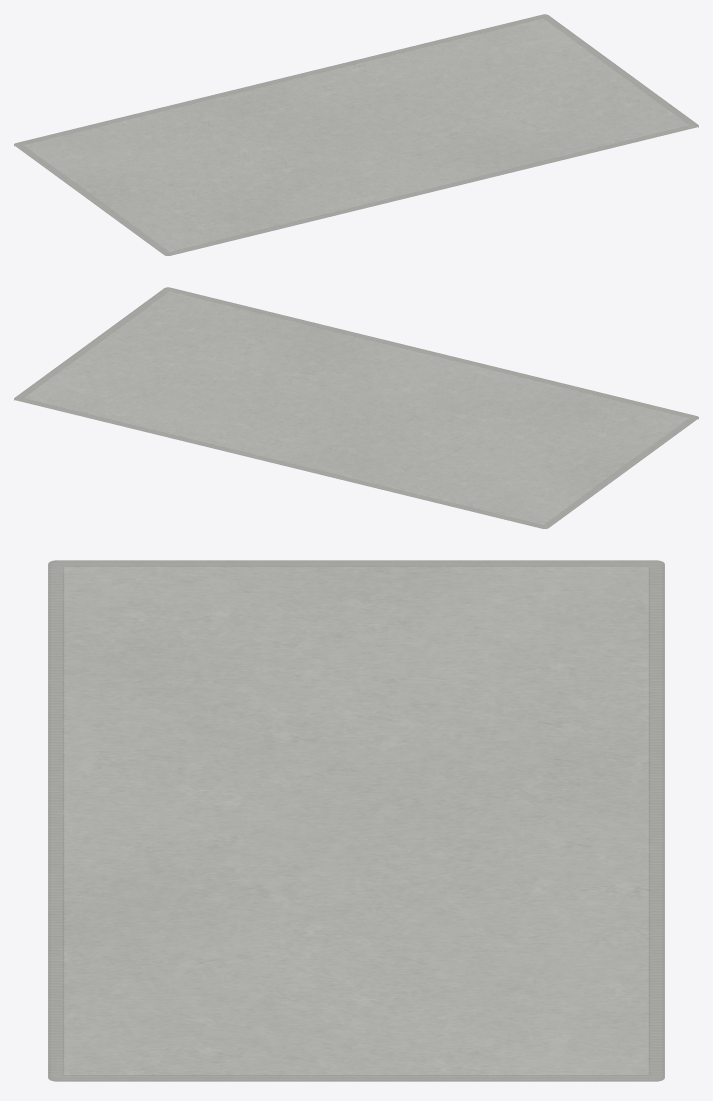
The model's file is gray_module_r90.glb.
3 views of the same model, one above another, from view 1: azimuth 30°, elevation 25°; view 2: azimuth 150°, elevation 25°; view 3: azimuth 270°, elevation 25° (orthographic). The views are drawn at different scales.
Visible parts, largest first — view 1: reliv_gray_module_r90; view 2: reliv_gray_module_r90; view 3: reliv_gray_module_r90.
Part boxes in pixels (box(x1,y1,x2,y2)): reliv_gray_module_r90: box(14, 14, 698, 255); reliv_gray_module_r90: box(14, 287, 698, 528); reliv_gray_module_r90: box(48, 560, 664, 1081).
Bounding box in the file's own units: 2 × 0.009 × 1.
2 materials, 1 textured.
